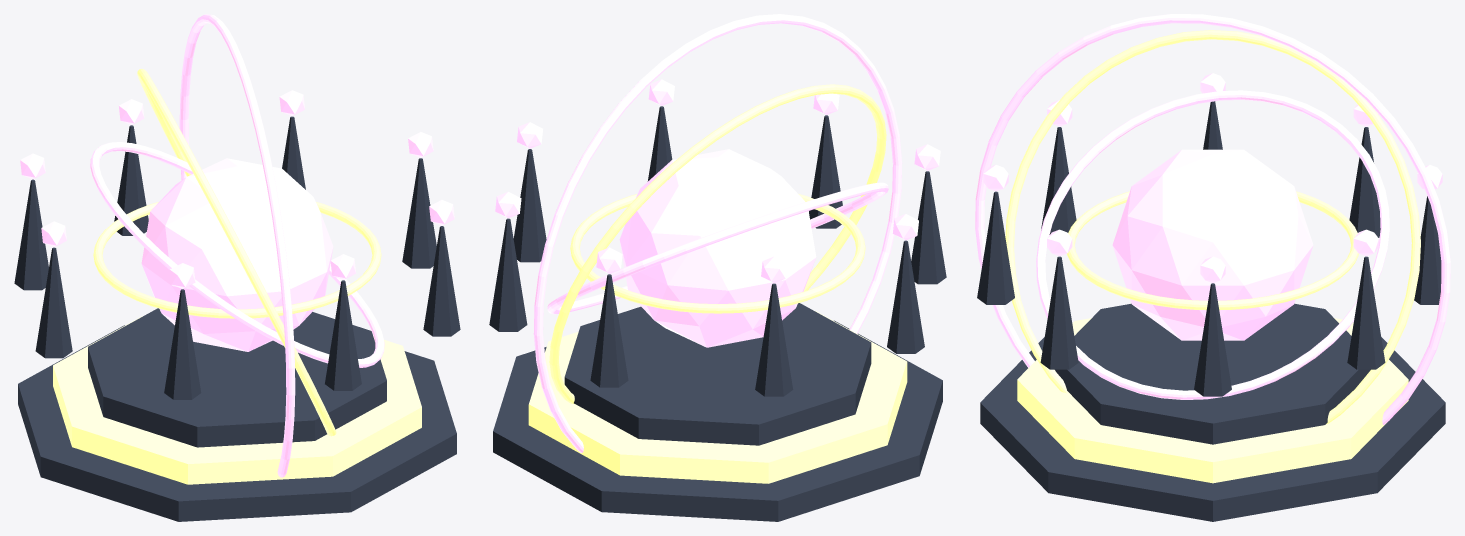
File: gpu-blender-v55.glb
The picture shows the model from 3 angles, left to right: view 1: azimuth 30°, elevation 25°; view 2: azimuth 150°, elevation 25°; view 3: azimuth 270°, elevation 25°; orthographic projection. The views are drawn at different scales.
Parts seen in each view (by area): view 1: Cylinder.002, SovereignCore_muse-code-linux, Cylinder, Cylinder.001, Torus.003, Torus.001, Torus.002, Torus, Cone.004, Cone.007, Cone.005, Cone.006 (+12 smaller); view 2: Cylinder.002, SovereignCore_muse-code-linux, Cylinder, Cylinder.001, Torus.003, Torus.002, Torus.001, Torus, Cone.002, Cone.003, Cone.001, Cone.004 (+11 smaller); view 3: SovereignCore_muse-code-linux, Cylinder.002, Cylinder, Cylinder.001, Torus.003, Torus.002, Torus.001, Torus, Cone, Cone.001, Cone.007, Cone.006 (+8 smaller).
Part boxes in pixels (left/top/right/bottom): Cylinder.002: left=88, top=308, right=386, bottom=447; SovereignCore_muse-code-linux: left=141, top=158, right=333, bottom=351; Cylinder: left=18, top=325, right=456, bottom=521; Cylinder.001: left=53, top=316, right=421, bottom=484; Torus.003: left=179, top=14, right=295, bottom=477; Torus.001: left=90, top=142, right=384, bottom=367; Torus.002: left=137, top=69, right=336, bottom=436; Torus: left=93, top=202, right=381, bottom=318; Cone.004: left=35, top=247, right=72, bottom=358; Cone.007: left=423, top=226, right=460, bottom=336; Cone.005: left=164, top=289, right=201, bottom=399; Cone.006: left=325, top=280, right=361, bottom=390; Cylinder.002: left=564, top=303, right=871, bottom=445; SovereignCore_muse-code-linux: left=619, top=149, right=816, bottom=347; Cylinder: left=493, top=320, right=942, bottom=521; Cylinder.001: left=528, top=311, right=907, bottom=483; Torus.003: left=533, top=14, right=902, bottom=452; Torus.002: left=549, top=84, right=886, bottom=403; Torus.001: left=547, top=182, right=888, bottom=314; Torus: left=570, top=193, right=865, bottom=313; Cone.002: left=590, top=274, right=628, bottom=387; Cone.003: left=755, top=283, right=793, bottom=396; Cone.001: left=489, top=218, right=527, bottom=331; Cone.004: left=887, top=240, right=924, bottom=353; SovereignCore_muse-code-linux: left=1112, top=149, right=1313, bottom=340; Cylinder.002: left=1055, top=303, right=1370, bottom=444; Cylinder: left=980, top=337, right=1445, bottom=521; Cylinder.001: left=1017, top=318, right=1408, bottom=483; Torus.003: left=975, top=14, right=1450, bottom=424; Torus.002: left=1005, top=30, right=1420, bottom=423; Torus.001: left=1036, top=90, right=1389, bottom=399; Torus: left=1067, top=191, right=1358, bottom=310; Cone: left=1194, top=283, right=1231, bottom=396; Cone.001: left=1347, top=256, right=1385, bottom=369; Cone.007: left=1040, top=256, right=1078, bottom=369; Cone.006: left=977, top=191, right=1014, bottom=304.
Bounding box in the file's own units: 4.41 × 4.7 × 4.49.
